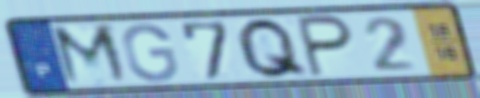2: (363, 15, 420, 74)
7: (177, 19, 231, 82)
G: (119, 21, 182, 84)
M: (46, 21, 136, 88)
P: (293, 13, 356, 80)
Q: (233, 16, 313, 81)
